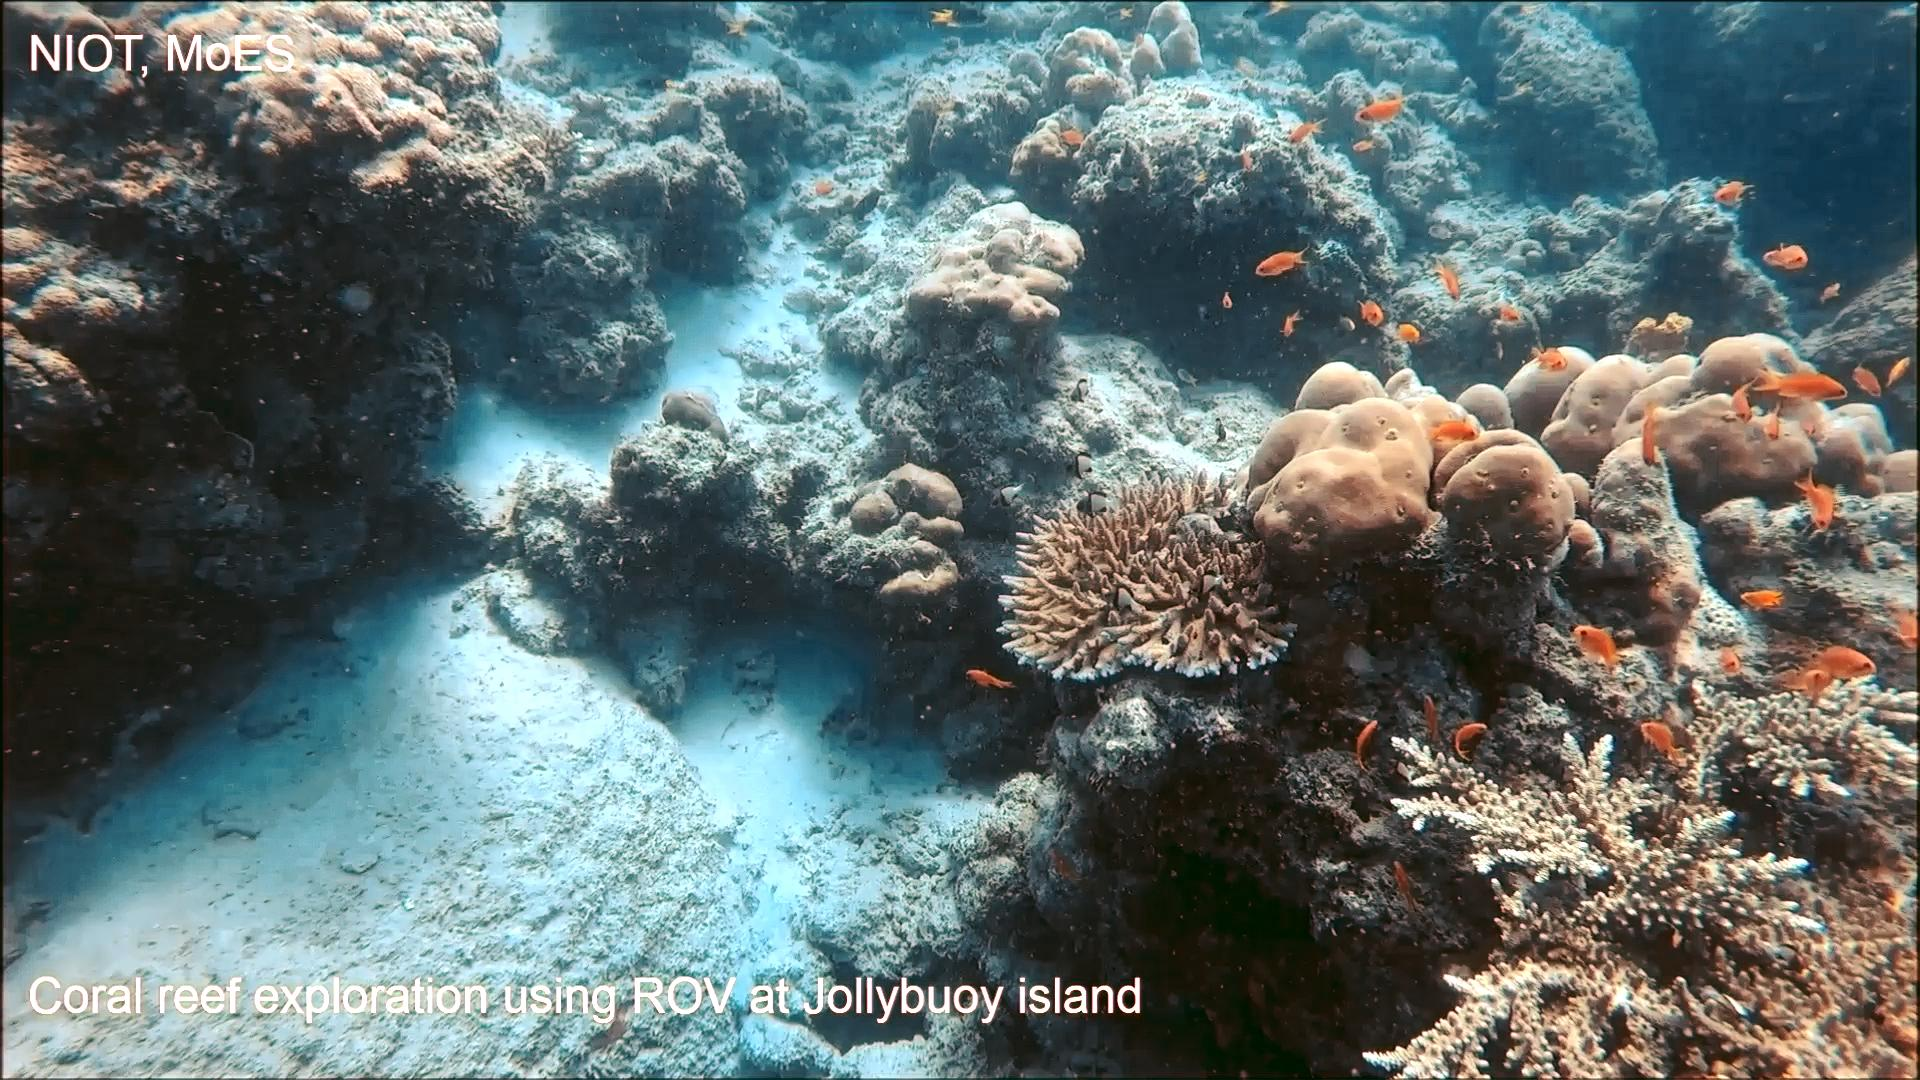Porites-Porites pukoensis: (1494, 311, 1920, 510), (1245, 342, 1594, 580)
